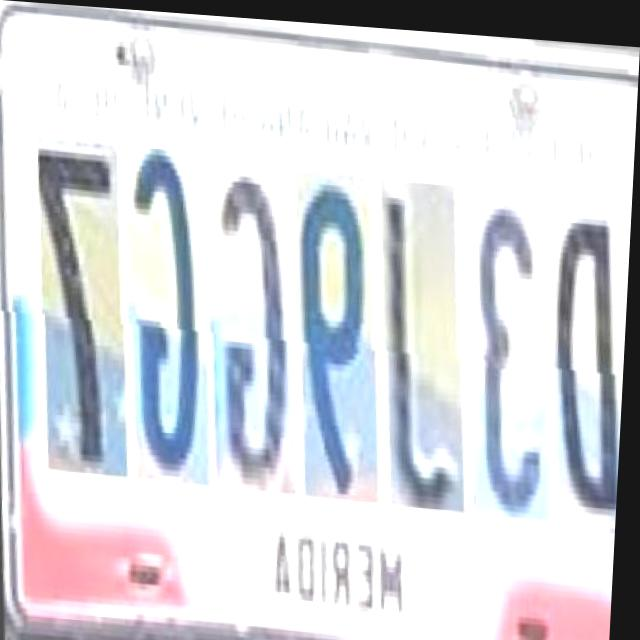3: (452, 187, 558, 514)
7: (23, 139, 135, 478)
9: (280, 167, 386, 499)
d: (536, 193, 633, 519)
g: (191, 153, 304, 492), (111, 140, 219, 486)
j: (365, 174, 472, 506)
